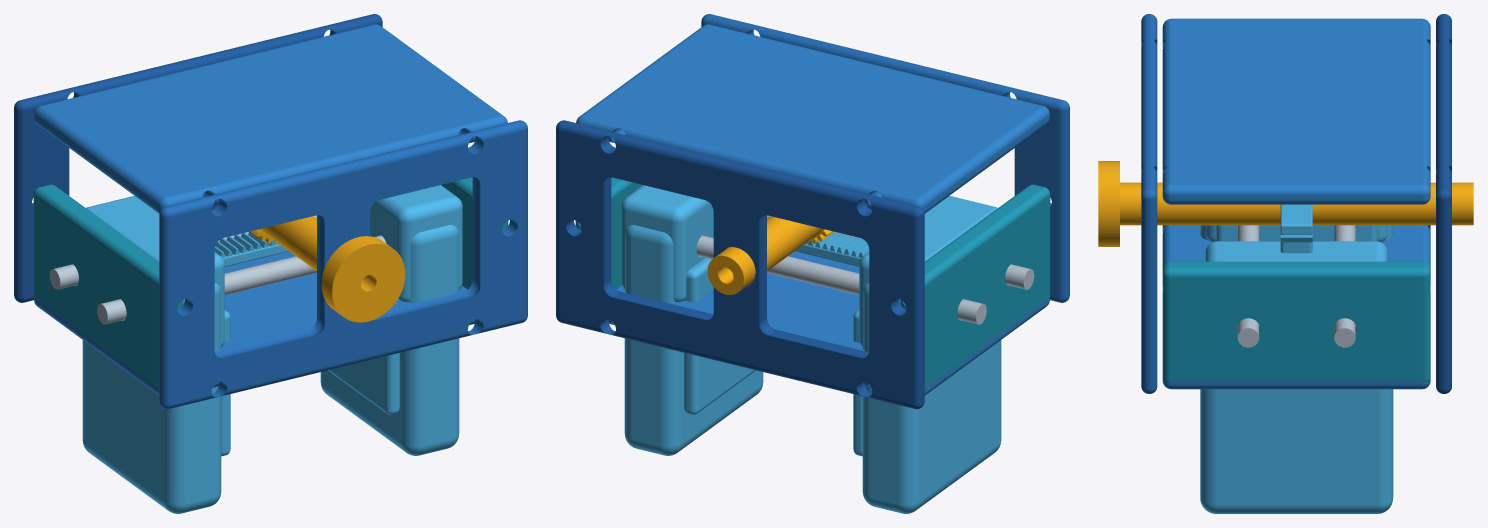
The model's file is HR30_G01_manual_fit_article_open_candidate.glb.
3 renders of one model, left to right at view 1: azimuth 30°, elevation 25°; view 2: azimuth 150°, elevation 25°; view 3: azimuth 270°, elevation 25°, orthographic.
Visible parts, largest first — view 1: FFA_FRAME_FRONT, FFA_TOP_BRIDGE, FFA_FINGER_RACK_NEGATIVE, FFA_FINGER_RACK_POSITIVE, FFA_END_NEGATIVE, FFA_FRAME_REAR, FFA_MANUAL_PINION, FFA_BOTTOM_BRIDGE, FFA_GUIDE_FRONT, FFA_END_POSITIVE, FFA_GUIDE_REAR; view 2: FFA_FRAME_REAR, FFA_TOP_BRIDGE, FFA_FINGER_RACK_NEGATIVE, FFA_FINGER_RACK_POSITIVE, FFA_END_NEGATIVE, FFA_FRAME_FRONT, FFA_BOTTOM_BRIDGE, FFA_MANUAL_PINION, FFA_GUIDE_REAR, FFA_END_POSITIVE, FFA_GUIDE_FRONT; view 3: FFA_TOP_BRIDGE, FFA_END_POSITIVE, FFA_FINGER_RACK_POSITIVE, FFA_MANUAL_PINION, FFA_FRAME_FRONT, FFA_FRAME_REAR, FFA_BOTTOM_BRIDGE, FFA_FINGER_RACK_NEGATIVE, FFA_GUIDE_FRONT, FFA_GUIDE_REAR.
Part boxes in pixels (left/top/right/bottom): FFA_FRAME_FRONT: left=159, top=120, right=527, bottom=409; FFA_TOP_BRIDGE: left=34, top=24, right=507, bottom=213; FFA_FINGER_RACK_NEGATIVE: left=82, top=196, right=288, bottom=513; FFA_FINGER_RACK_POSITIVE: left=320, top=185, right=462, bottom=455; FFA_END_NEGATIVE: left=33, top=184, right=183, bottom=388; FFA_FRAME_REAR: left=14, top=14, right=382, bottom=302; FFA_MANUAL_PINION: left=249, top=216, right=405, bottom=322; FFA_BOTTOM_BRIDGE: left=34, top=251, right=475, bottom=395; FFA_GUIDE_FRONT: left=97, top=235, right=386, bottom=324; FFA_END_POSITIVE: left=441, top=177, right=508, bottom=289; FFA_GUIDE_REAR: left=49, top=215, right=316, bottom=289; FFA_FRAME_REAR: left=556, top=120, right=924, bottom=409; FFA_TOP_BRIDGE: left=576, top=24, right=1049, bottom=213; FFA_FINGER_RACK_NEGATIVE: left=795, top=196, right=1001, bottom=513; FFA_FINGER_RACK_POSITIVE: left=621, top=185, right=763, bottom=455; FFA_END_NEGATIVE: left=900, top=184, right=1050, bottom=388; FFA_FRAME_FRONT: left=701, top=14, right=1069, bottom=302; FFA_BOTTOM_BRIDGE: left=608, top=251, right=1049, bottom=395; FFA_MANUAL_PINION: left=707, top=216, right=834, bottom=294; FFA_GUIDE_REAR: left=696, top=235, right=986, bottom=324; FFA_END_POSITIVE: left=575, top=177, right=642, bottom=289; FFA_GUIDE_FRONT: left=767, top=215, right=1034, bottom=289; FFA_TOP_BRIDGE: left=1162, top=18, right=1430, bottom=204; FFA_END_POSITIVE: left=1162, top=261, right=1430, bottom=381; FFA_FINGER_RACK_POSITIVE: left=1200, top=204, right=1393, bottom=513; FFA_MANUAL_PINION: left=1098, top=161, right=1473, bottom=246; FFA_FRAME_FRONT: left=1141, top=14, right=1157, bottom=393; FFA_FRAME_REAR: left=1436, top=14, right=1451, bottom=393; FFA_BOTTOM_BRIDGE: left=1162, top=225, right=1430, bottom=389; FFA_FINGER_RACK_NEGATIVE: left=1200, top=225, right=1393, bottom=241; FFA_GUIDE_FRONT: left=1237, top=225, right=1259, bottom=347; FFA_GUIDE_REAR: left=1334, top=225, right=1355, bottom=347.
Size of the model in its own units: 84 by 71 by 70.
